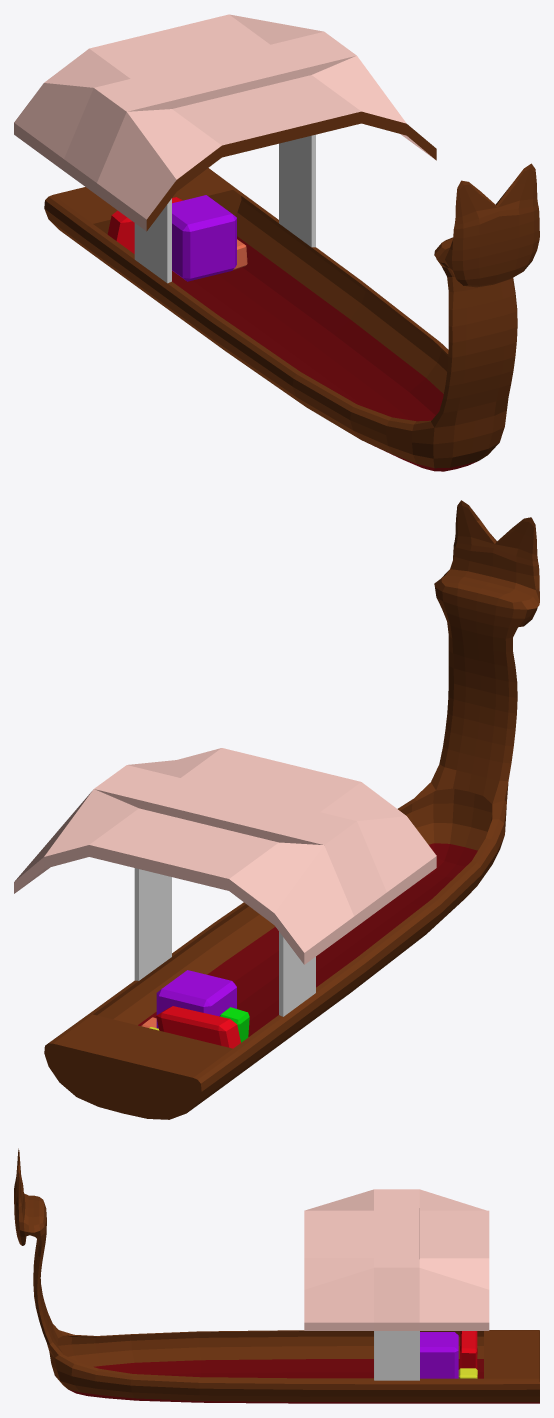
The model's file is boat2.glb.
The picture shows the model from 3 angles, top to bottom: view 1: azimuth 30°, elevation 25°; view 2: azimuth 150°, elevation 25°; view 3: azimuth 270°, elevation 25°; orthographic projection. The views are drawn at different scales.
Visible parts, largest first — view 1: Cat boat, Cube.005; view 2: Cat boat, Cube.005; view 3: Cat boat, Cube.005.
Boxes of the visible parts, left/top/right/bottom form: Cat boat: left=14, top=14, right=539, bottom=471; Cube.005: left=107, top=195, right=247, bottom=281; Cat boat: left=14, top=500, right=539, bottom=1119; Cube.005: left=141, top=970, right=249, bottom=1048; Cat boat: left=14, top=1148, right=539, bottom=1403; Cube.005: left=420, top=1331, right=477, bottom=1378.
Bounding box in the file's own units: 2.69 × 2.93 × 6.04.
